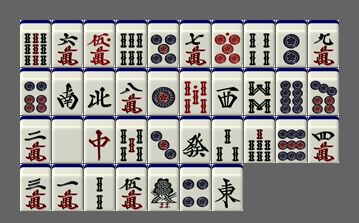0m: (84, 20, 115, 67)
0p: (212, 20, 243, 67)
0s: (180, 68, 211, 115)
1m: (52, 164, 83, 211)
1p: (148, 68, 179, 115)
1s: (148, 164, 179, 211)
1z: (212, 164, 243, 211)
2m: (20, 116, 51, 163)
2p: (276, 20, 307, 67)
2s: (84, 164, 115, 211)
2z: (52, 68, 83, 115)
3m: (20, 164, 51, 211)
3p: (148, 116, 179, 163)
3s: (212, 116, 243, 163)
3z: (212, 68, 243, 115)
4m: (308, 116, 339, 163)
4p: (180, 164, 211, 211)
4s: (244, 20, 275, 67)
4z: (84, 68, 115, 115)
5m: (116, 164, 147, 211)
5p: (148, 20, 179, 67)
5s: (116, 116, 147, 163)
5z: (52, 116, 83, 163)
6m: (52, 20, 83, 67)
6p: (20, 68, 51, 115)
6s: (116, 20, 147, 67)
6z: (180, 116, 211, 163)
7m: (180, 20, 211, 67)
7p: (308, 68, 339, 115)
7s: (244, 116, 275, 163)
7z: (84, 116, 115, 163)
8m: (116, 68, 147, 115)
8p: (276, 68, 307, 115)
8s: (244, 68, 275, 115)
9m: (308, 20, 339, 67)
9p: (276, 116, 307, 163)
9s: (20, 20, 51, 67)
